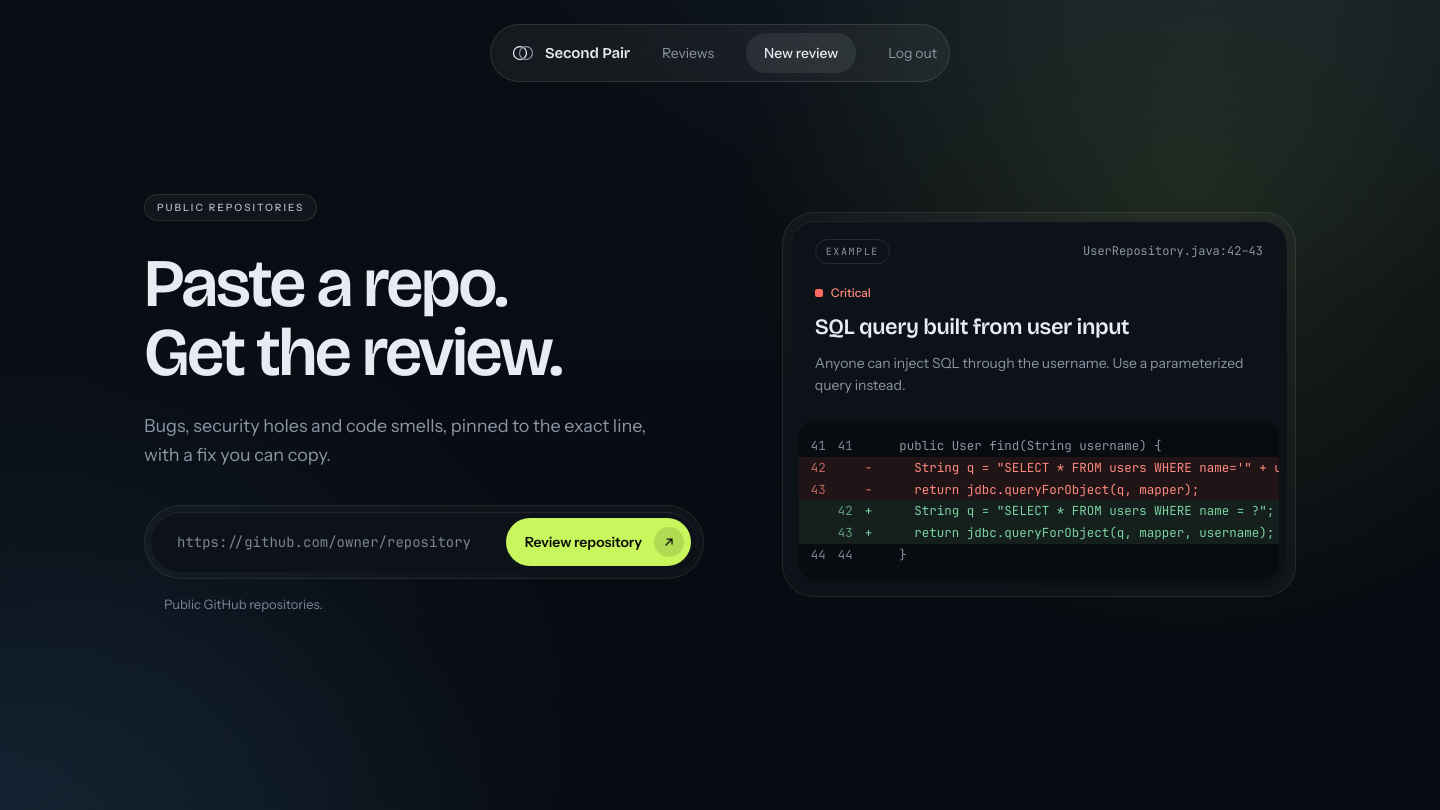
LandingPage › sends a user whose session expired to log in and keeps the URL
Expected: the button "Log out" is shown, top-left (884, 34), bottom-right (941, 72)
In the field named "GitHub repository URL": (327, 542) top-left (157, 518), bottom-right (498, 566), type "https://github.com/octo/demo"
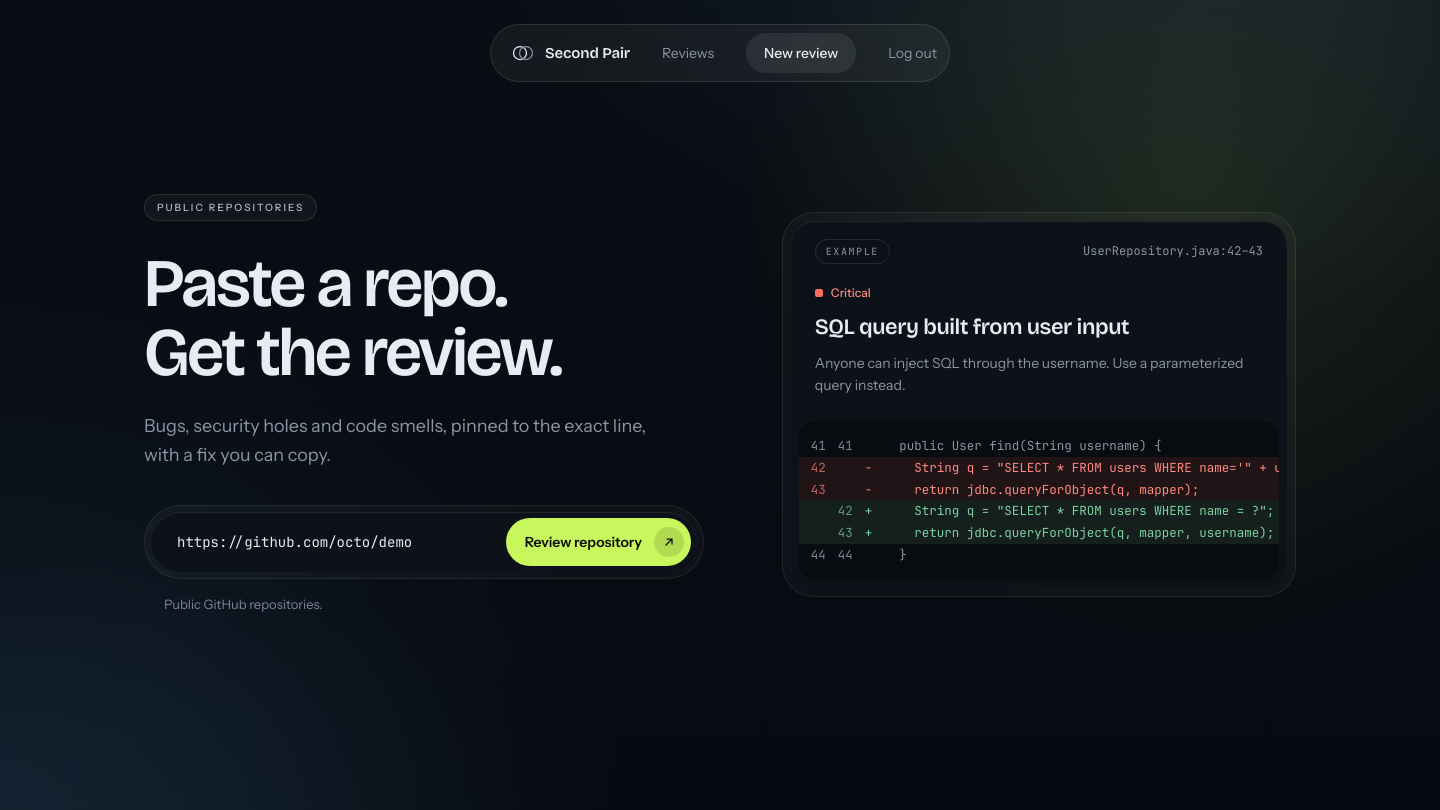
Click the button "Review repository": (598, 542) top-left (506, 518), bottom-right (691, 566)
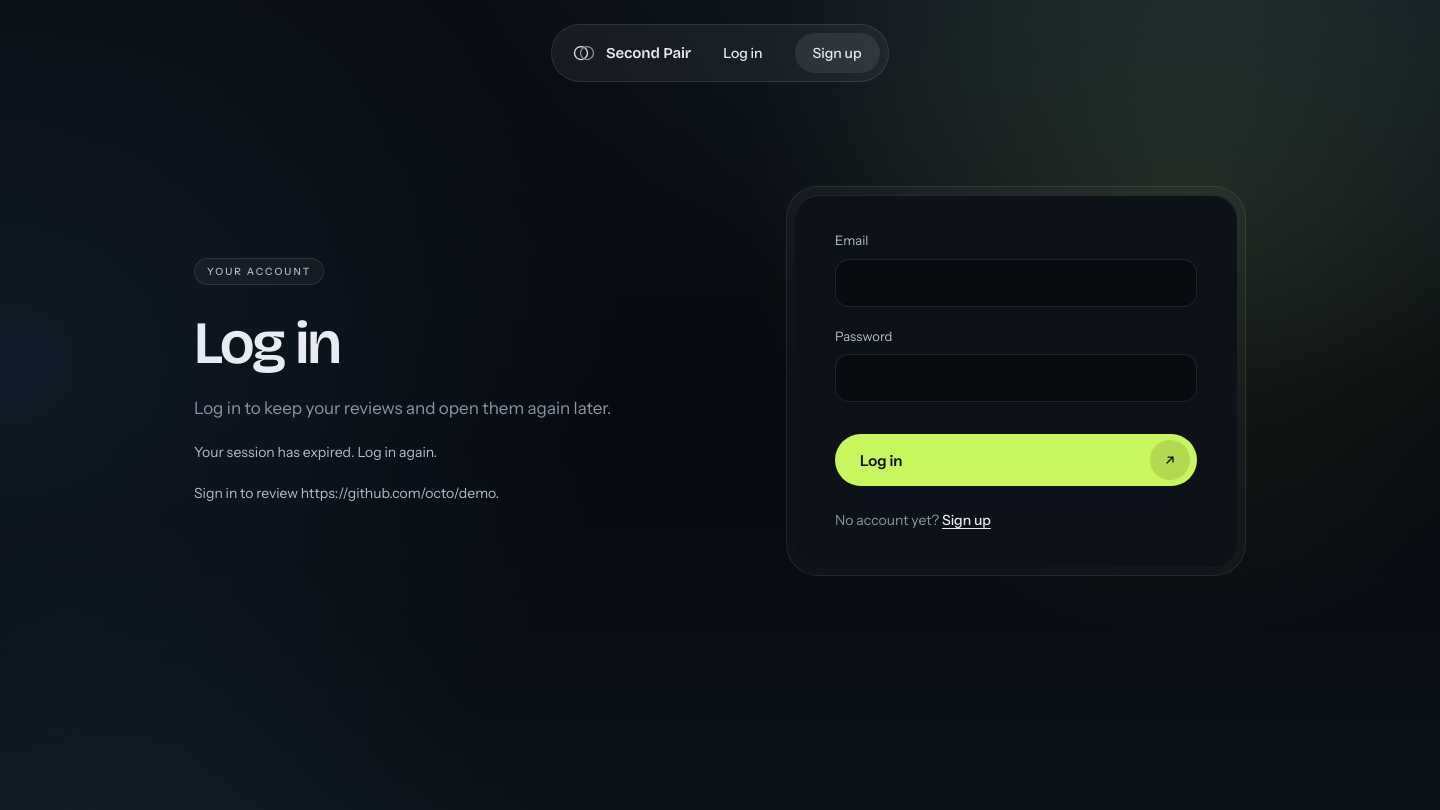
Result: the text "Sign in to review https://github.com/octo/demo." is shown at top-left (194, 483), bottom-right (499, 504)
In the field labelled "Email": (1016, 282) top-left (835, 258), bottom-right (1197, 306), type "ana@example.com"
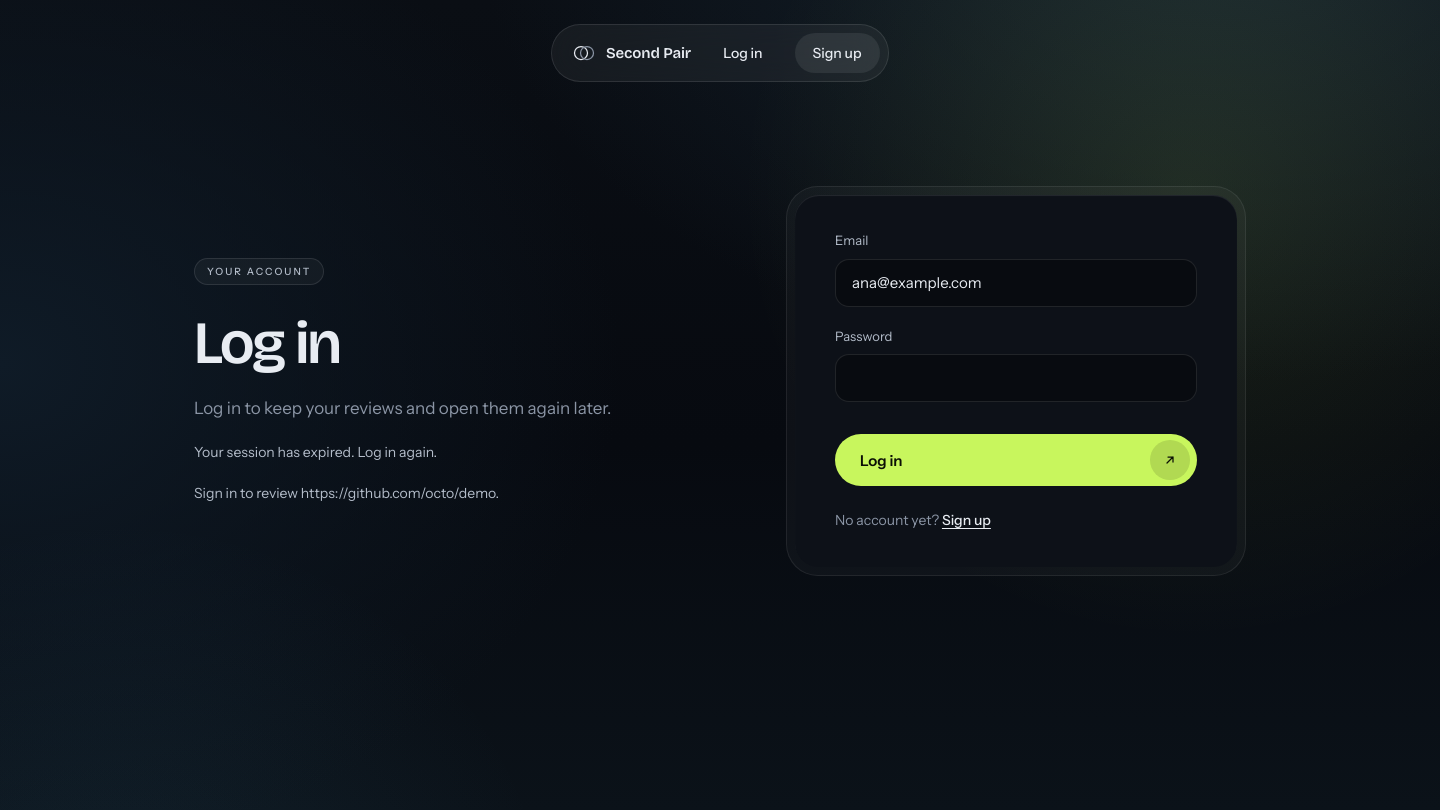
In the password field labelled "Password": (1016, 378) top-left (835, 354), bottom-right (1197, 402), type "secret-password"
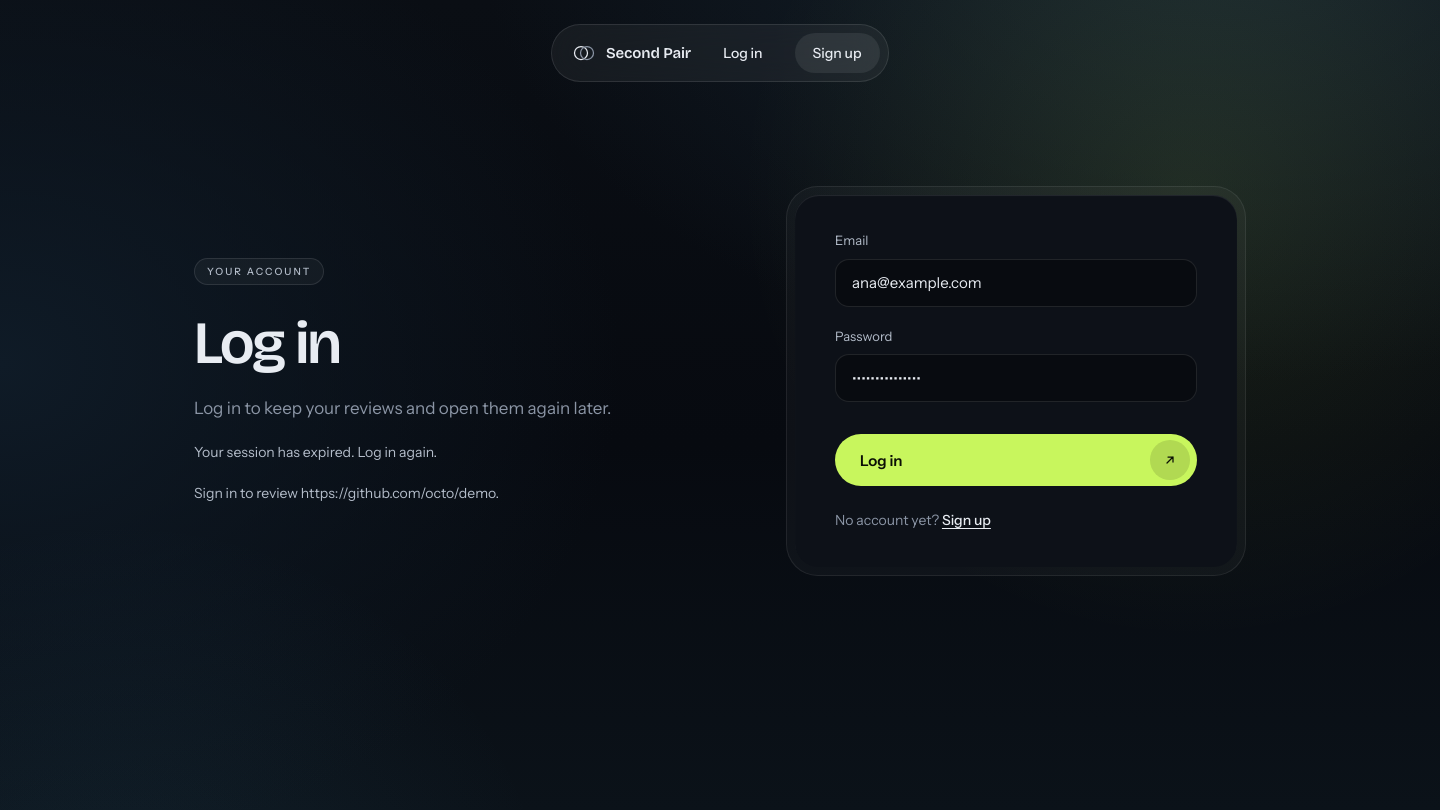
Click the button "Log in": (881, 460) top-left (835, 434), bottom-right (1197, 486)
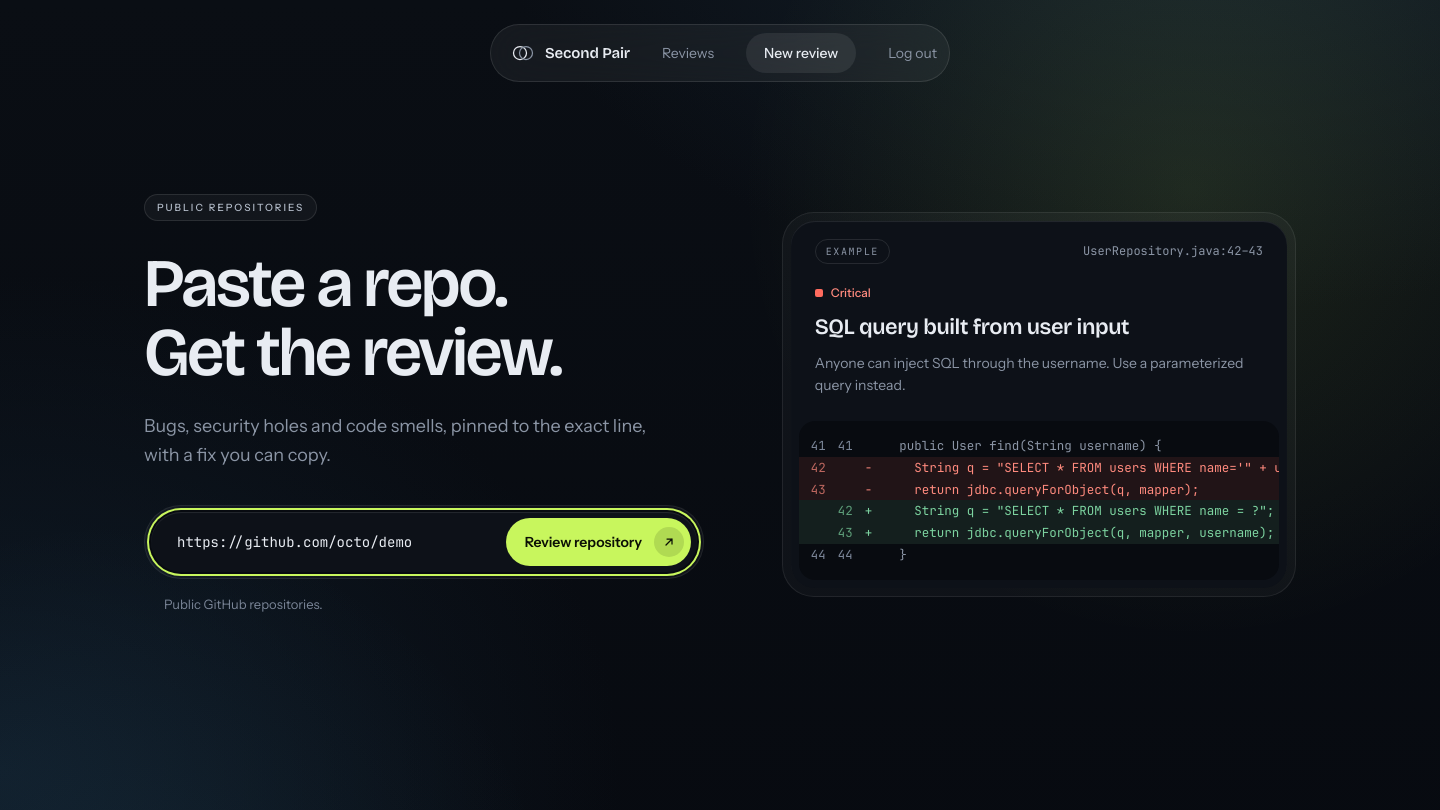
Result: the field showing "https://github.com/octo/demo" is shown at top-left (157, 518), bottom-right (498, 566)
